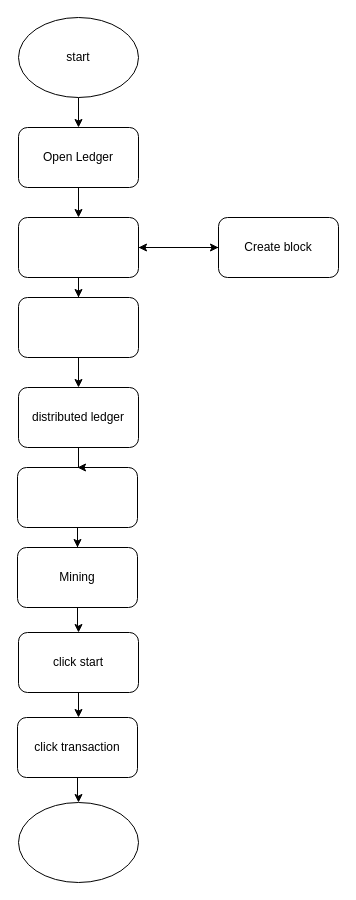
The diagram is 356 pixels wide and 900 high, and some of its shapes have lost their labels. The centre of each missing label's shape, as x and y in pixels:
"click next" belongs at (78,327).
"click on add transaction" belongs at (77,497).
"create genesis block" belongs at (78,247).
"End" belongs at (78,842).
